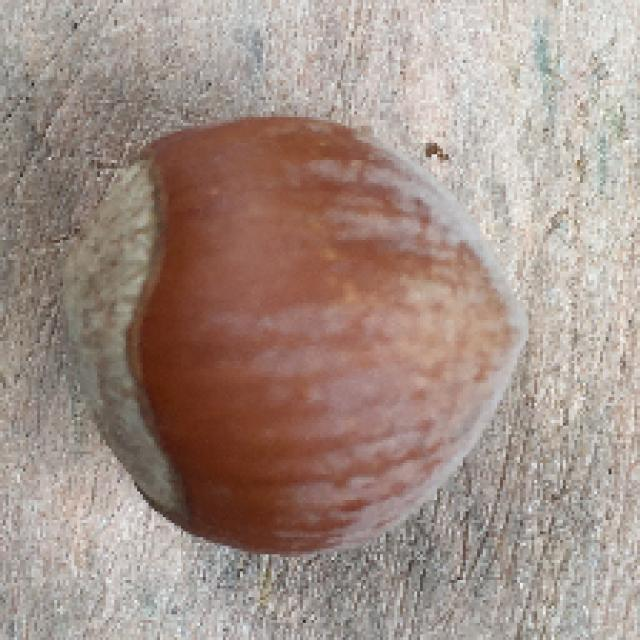qualityHazelnut: (57, 113, 534, 560)
